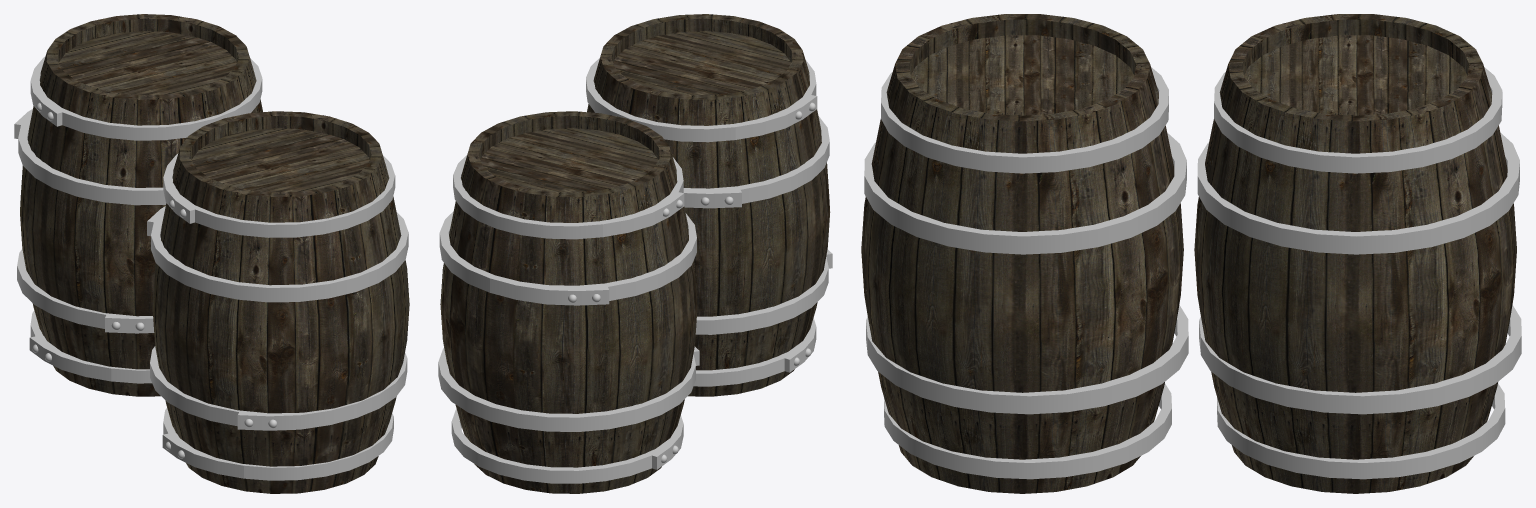
Rendered from old_barrel_final.FBX.
3 renders of one model, left to right at view 1: azimuth 30°, elevation 25°; view 2: azimuth 150°, elevation 25°; view 3: azimuth 270°, elevation 25°, orthographic. The views are drawn at different scales.
Visible parts, largest first — view 1: Cylinder002, Cylinder001, Tube008, Tube006, Tube005, Tube001, Tube007, Tube002, Tube003, Tube004; view 2: Cylinder001, Cylinder002, Tube002, Tube003, Tube001, Tube004, Tube005, Tube008, Tube006, Tube007; view 3: Cylinder002, Cylinder001, Tube008, Tube002, Tube006, Tube003, Tube001, Tube005, Tube004, Tube007.
Part boxes in pixels (x1,y1,x2,y2): Cylinder002: (152,111,409,493); Cylinder001: (20,14,262,396); Tube008: (147,206,408,302); Tube006: (150,346,407,430); Tube005: (163,153,395,237); Tube001: (30,56,262,140); Tube007: (162,408,393,480); Tube002: (14,109,166,205); Tube003: (17,249,154,333); Tube004: (29,310,151,383); Cylinder001: (440,111,697,493); Cylinder002: (587,14,830,396); Tube002: (439,211,696,305); Tube003: (438,346,699,431); Tube001: (453,155,684,239); Tube004: (451,409,683,483); Tube005: (586,58,817,142); Tube008: (683,116,829,208); Tube006: (695,249,832,334); Tube007: (694,318,816,386); Cylinder002: (861,14,1183,493); Cylinder001: (1194,14,1516,493); Tube008: (864,133,1186,254); Tube002: (1197,133,1519,254); Tube006: (866,305,1188,414); Tube003: (1199,305,1521,414); Tube001: (1214,67,1502,173); Tube005: (881,67,1168,173); Tube004: (1217,383,1505,479); Tube007: (884,383,1171,479).
Bounding box in the file's own units: 56.28 × 71.9 × 115.
